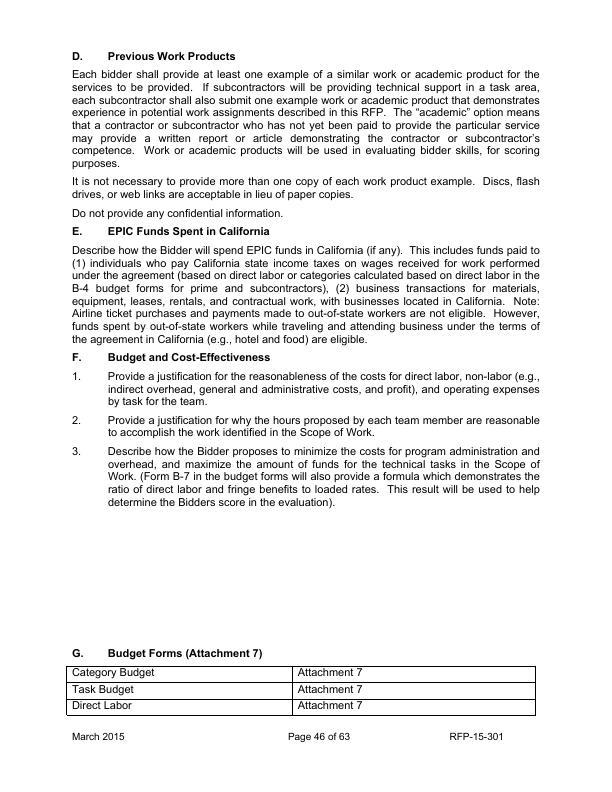table: (64, 663, 540, 721)
text: (69, 226, 546, 512), (69, 67, 542, 220), (67, 644, 263, 660), (72, 48, 236, 65)
